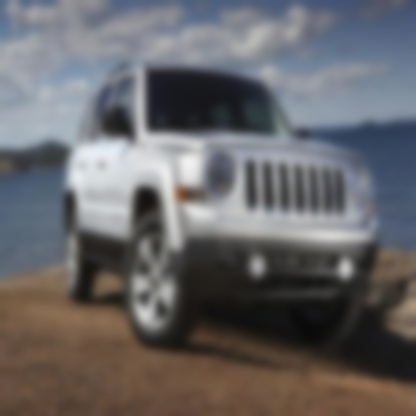Vehicle: (63, 61, 380, 350)
